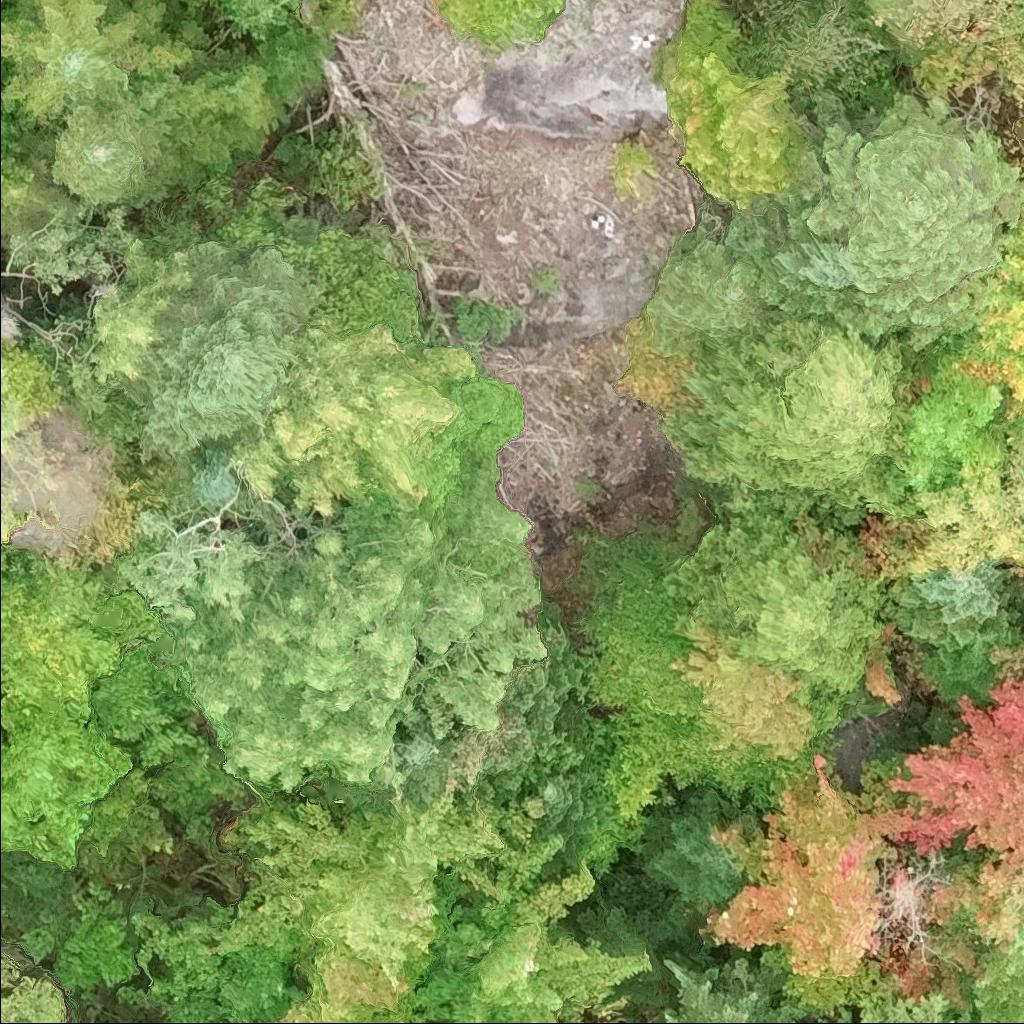crown: (122, 494, 554, 790), (230, 786, 653, 1023), (582, 536, 881, 805), (806, 89, 1023, 346), (665, 291, 906, 495), (705, 755, 910, 981), (134, 243, 327, 471), (680, 518, 890, 690), (0, 553, 167, 739), (0, 0, 206, 125), (890, 673, 1023, 859), (670, 611, 820, 759), (124, 908, 304, 1023), (668, 51, 800, 205), (0, 716, 124, 873), (54, 101, 186, 205), (898, 358, 999, 486), (655, 236, 774, 344), (882, 855, 972, 988), (919, 605, 1023, 703), (886, 568, 1007, 650), (970, 223, 1023, 408), (666, 959, 803, 1023), (653, 815, 749, 902), (951, 844, 1023, 950), (258, 26, 323, 121), (978, 922, 1023, 1023), (0, 957, 66, 1023), (913, 0, 1023, 35), (788, 238, 842, 298), (225, 0, 304, 40), (841, 997, 954, 1023), (0, 102, 28, 192), (195, 448, 234, 505), (0, 828, 29, 881), (1023, 674, 1023, 676)
